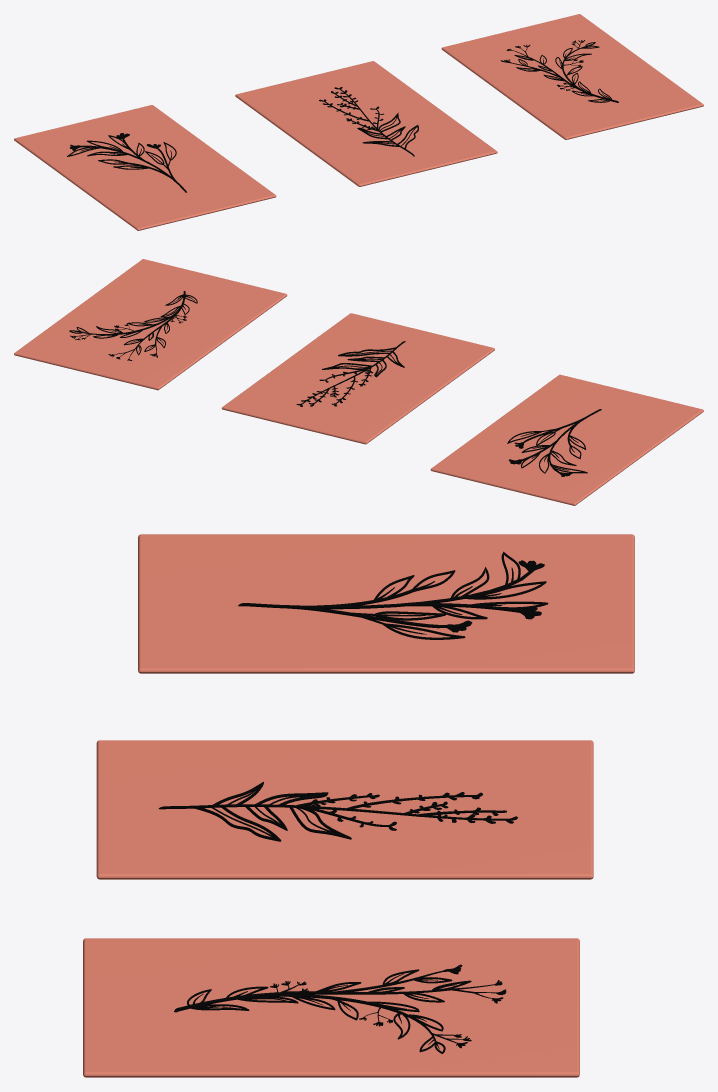
File: WallPics.fbx
3 views of the same model, one above another, from view 1: azimuth 30°, elevation 25°; view 2: azimuth 150°, elevation 25°; view 3: azimuth 270°, elevation 25° (orthographic). The views are drawn at different scales.
Visible parts, largest first — view 1: Hanging wall art piece, Hanging wall art piece.001, Hanging wall art piece.002; view 2: Hanging wall art piece.001, Hanging wall art piece.002, Hanging wall art piece; view 3: Hanging wall art piece, Hanging wall art piece.001, Hanging wall art piece.002.
Boxes of the visible parts, bbox=[...] form: Hanging wall art piece: bbox=[235, 61, 497, 186]; Hanging wall art piece.001: bbox=[441, 14, 703, 139]; Hanging wall art piece.002: bbox=[14, 105, 276, 230]; Hanging wall art piece.001: bbox=[14, 259, 287, 390]; Hanging wall art piece.002: bbox=[430, 374, 703, 505]; Hanging wall art piece: bbox=[221, 313, 494, 444]; Hanging wall art piece: bbox=[96, 740, 593, 879]; Hanging wall art piece.001: bbox=[83, 938, 579, 1077]; Hanging wall art piece.002: bbox=[138, 534, 634, 673].
Bounding box in the file's own units: 154 × 1.16 × 66.61.
